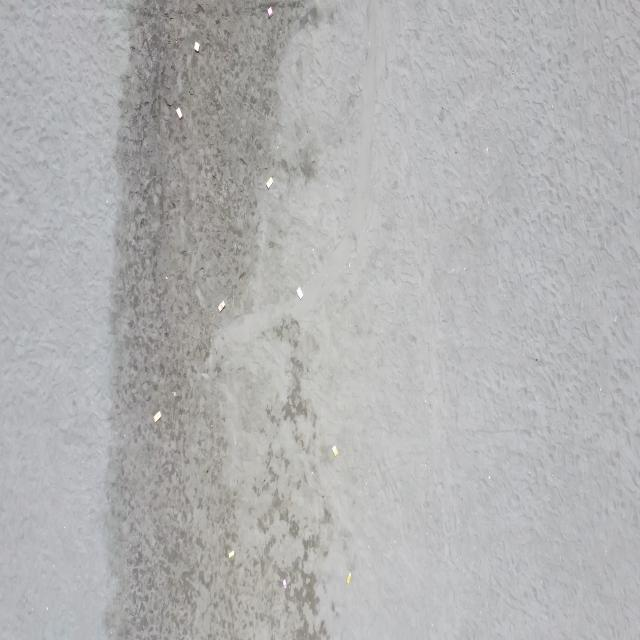retort-pouch: (265, 175, 274, 190), (175, 104, 183, 120), (296, 286, 304, 301), (218, 299, 226, 314), (193, 40, 201, 53), (267, 4, 273, 20), (154, 410, 162, 422), (332, 442, 338, 458), (228, 548, 235, 560), (282, 578, 288, 590), (346, 572, 352, 584)
